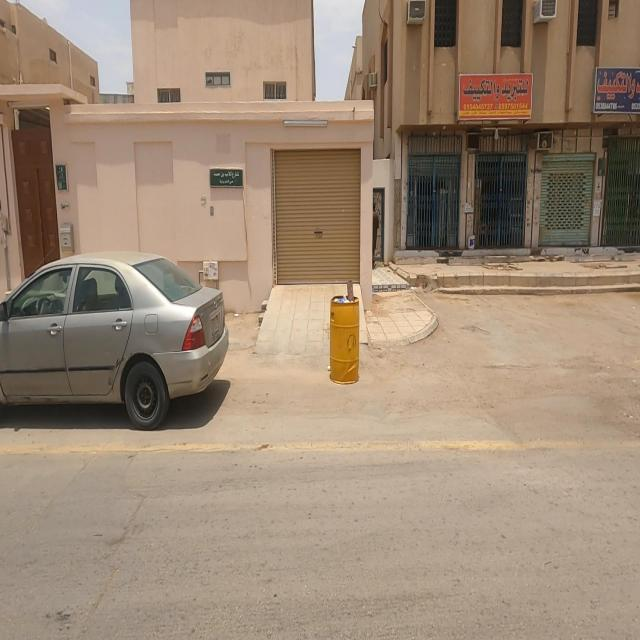debris: (308, 252, 378, 346)
